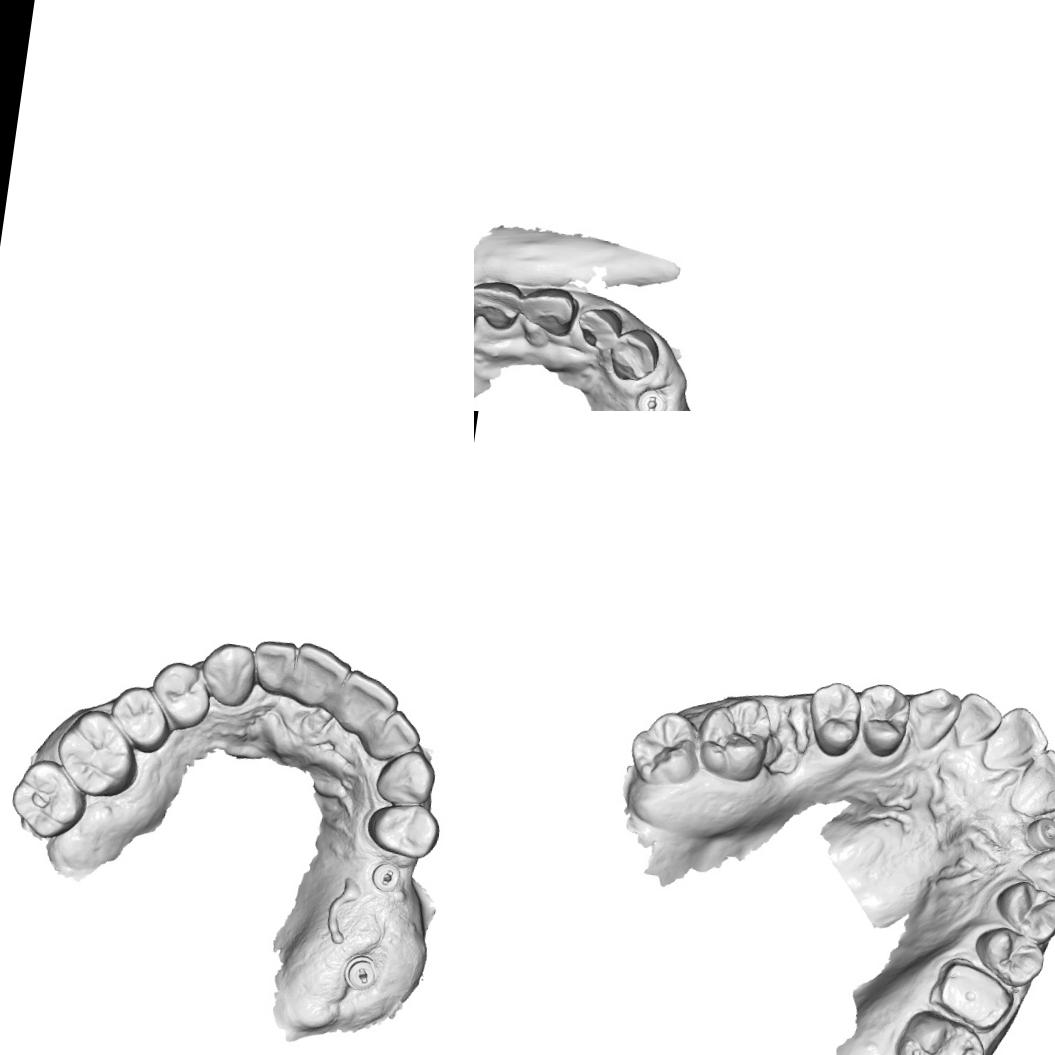canine: (195, 637, 260, 711), (371, 745, 440, 812), (902, 683, 964, 754), (606, 324, 663, 387), (1020, 840, 1055, 901)
crown: (931, 958, 1020, 1036)
implant: (1022, 814, 1055, 855)
implant_minus: (340, 952, 380, 994), (369, 858, 406, 896), (633, 383, 671, 411)
incisor: (336, 666, 403, 740), (985, 703, 1052, 774), (288, 638, 354, 710), (516, 281, 581, 340), (368, 705, 426, 765), (247, 636, 301, 698), (1011, 744, 1055, 818), (952, 690, 1006, 747), (474, 274, 524, 333), (573, 303, 627, 356)
molar: (50, 702, 147, 803), (5, 754, 93, 846), (693, 690, 776, 786), (625, 706, 706, 793), (892, 1005, 992, 1055)
premolar: (104, 680, 178, 758), (145, 656, 217, 734), (969, 922, 1049, 992), (362, 798, 444, 864), (802, 676, 866, 760), (853, 679, 914, 760), (988, 875, 1055, 946)
